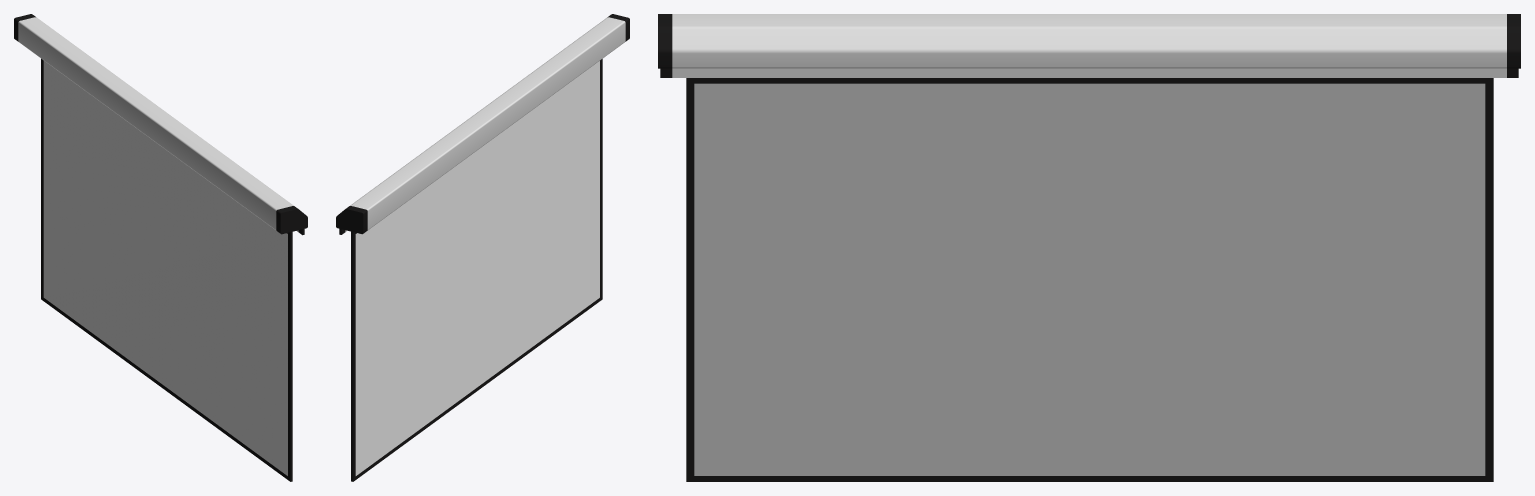
Rendered from Proyector screen.FBX.
The picture shows the model from 3 angles, left to right: view 1: azimuth 30°, elevation 25°; view 2: azimuth 150°, elevation 25°; view 3: azimuth 270°, elevation 25°; orthographic projection. The views are drawn at different scales.
Parts seen in each view (by area): view 1: Proyector screen; view 2: Proyector screen; view 3: Proyector screen.
Part boxes in pixels (box(x1,y1,x2,y2)): Proyector screen: box(14, 14, 307, 481); Proyector screen: box(336, 14, 629, 481); Proyector screen: box(658, 14, 1520, 481).
Size of the model in its own units: 196 by 3320 by 1921.
